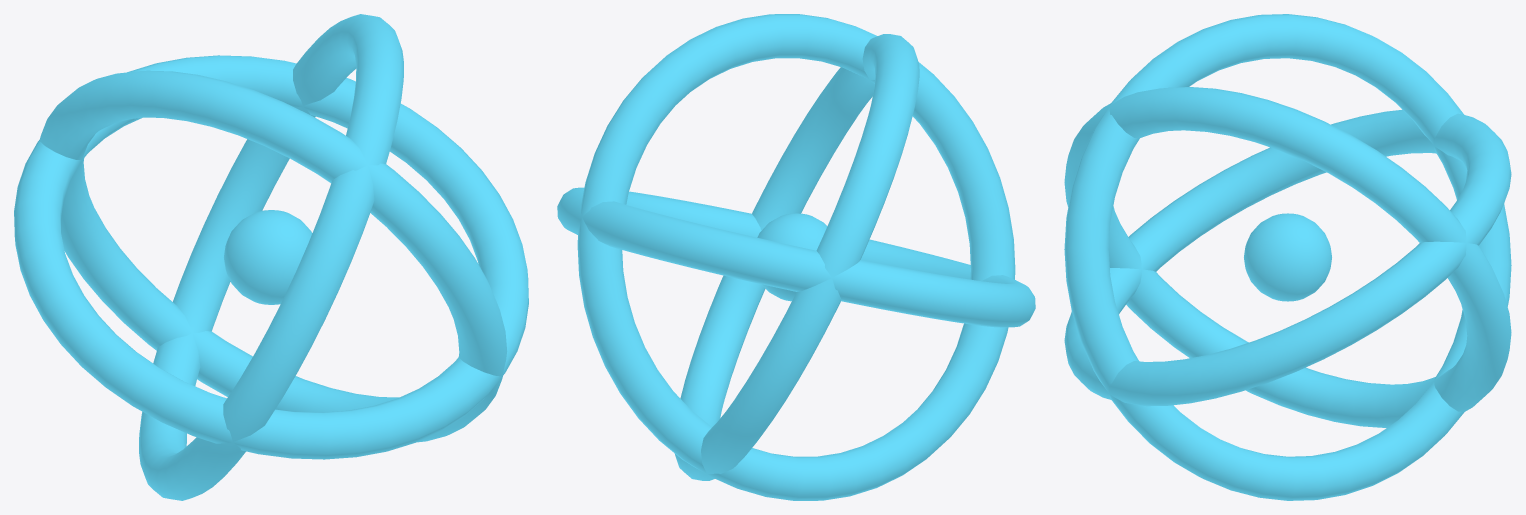
3 views of the same model, side by side, from view 1: azimuth 30°, elevation 25°; view 2: azimuth 150°, elevation 25°; view 3: azimuth 270°, elevation 25° (orthographic). The views are drawn at different scales.
Visible parts, largest first — view 1: Ring1_1, Ring3_3, Ring2_2, Core_0; view 2: Ring2_2, Ring3_3, Ring1_1, Core_0; view 3: Ring3_3, Ring2_2, Ring1_1, Core_0.
Part boxes in pixels (<box>): Ring1_1: <box>14,55,528,459</box>; Ring3_3: <box>39,70,507,442</box>; Ring2_2: <box>139,14,403,500</box>; Core_0: <box>224,210,312,304</box>; Ring2_2: <box>577,14,1015,500</box>; Ring3_3: <box>674,34,919,480</box>; Ring1_1: <box>557,187,1035,327</box>; Core_0: <box>757,213,827,301</box>; Ring3_3: <box>1064,14,1511,500</box>; Ring2_2: <box>1064,87,1511,427</box>; Ring1_1: <box>1064,109,1511,406</box>; Core_0: <box>1244,213,1331,301</box>.
Size of the model in its own units: 5.53 by 4.98 by 5.06.
